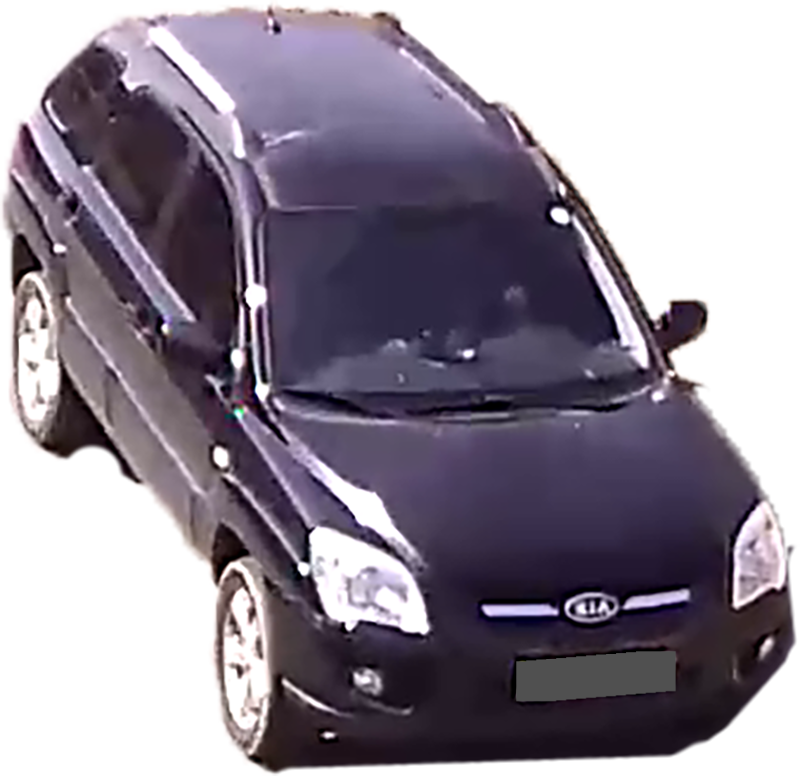P1_: (514, 662, 529, 667)
bbox: (515, 650, 676, 700)
